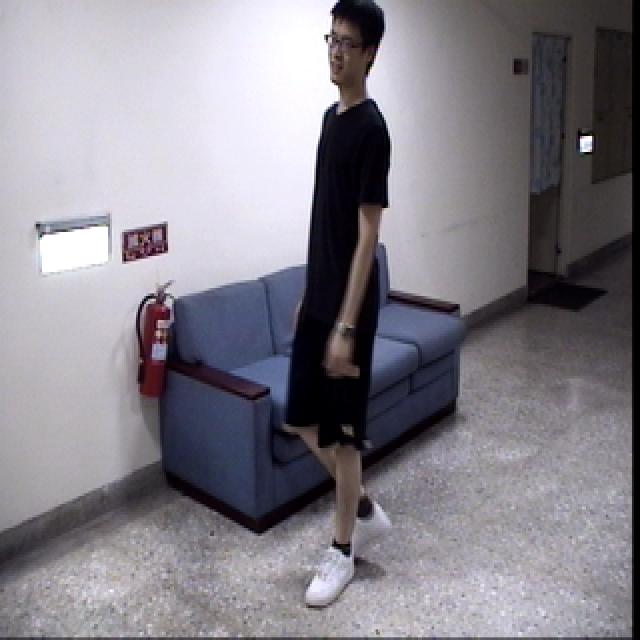stand: (279, 0, 416, 615)
